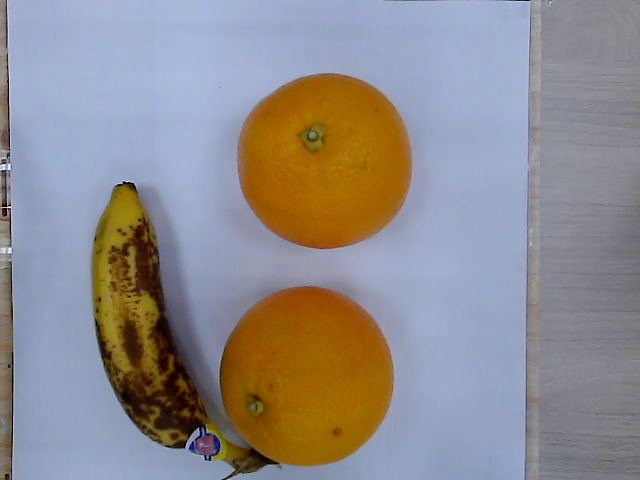fresh_orange: (219, 286, 395, 468), (238, 73, 414, 250)
rotten_banana: (92, 184, 273, 476)
